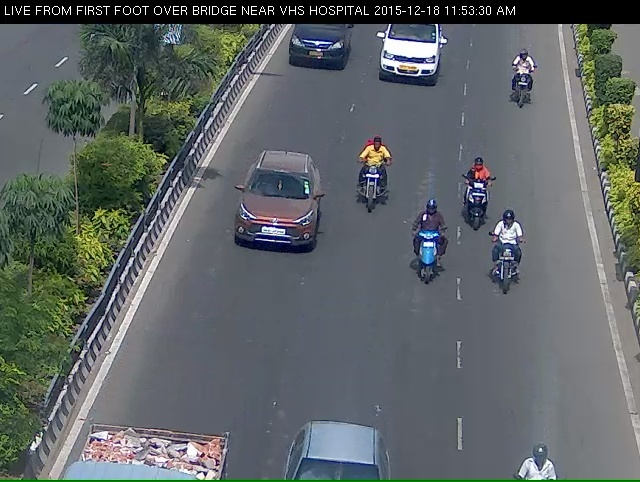Car: (228, 154, 322, 286), (375, 24, 449, 95), (283, 19, 355, 76)
Person: (408, 214, 446, 296), (346, 146, 387, 221), (492, 232, 526, 313), (459, 167, 494, 244), (508, 45, 537, 122)
